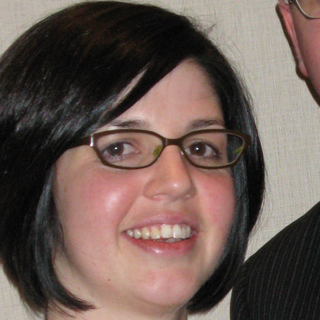eye: (98, 139, 142, 164), (182, 139, 221, 165)
